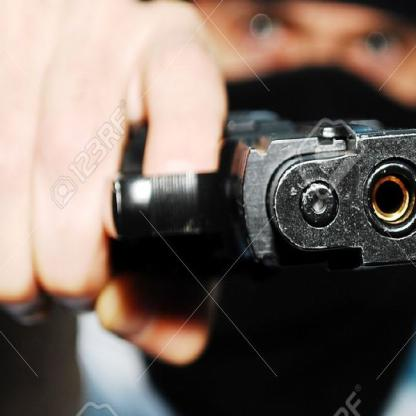gun: (0, 70, 415, 311)
